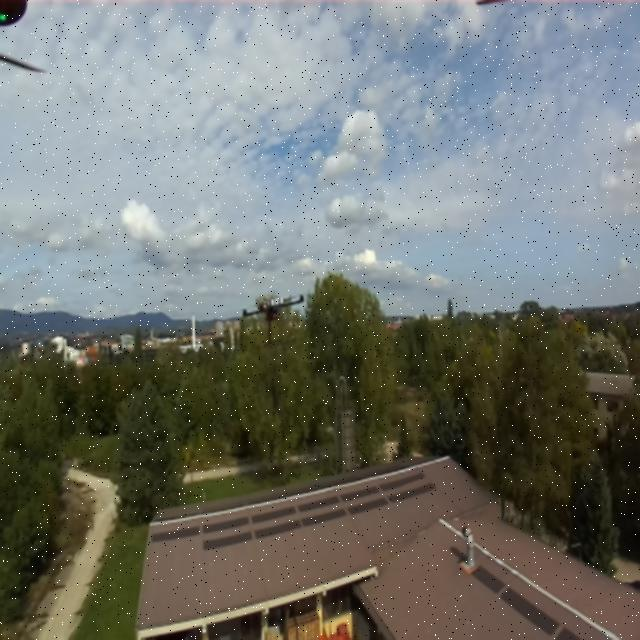UAV: (241, 286, 305, 354)
